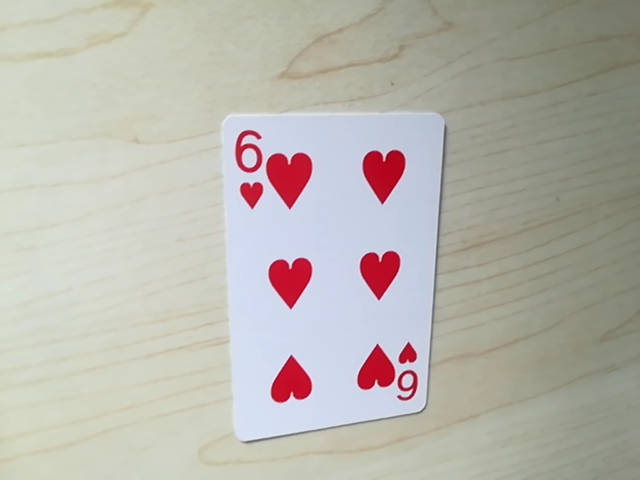hx 6: (228, 124, 264, 219), (394, 342, 430, 413)
